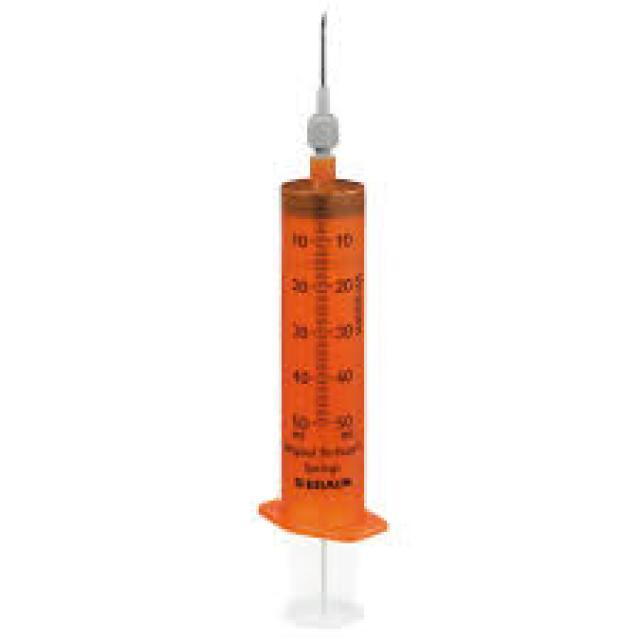syringe: (234, 24, 465, 596)
